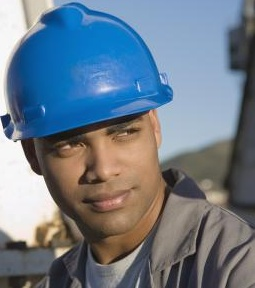hard-hat: (0, 1, 174, 142)
